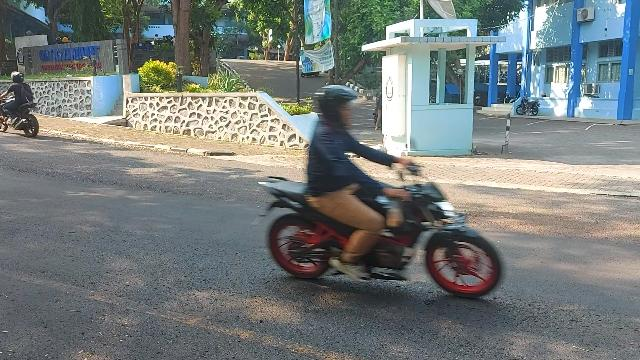helm: (314, 86, 358, 127)
motor: (258, 166, 502, 302)
